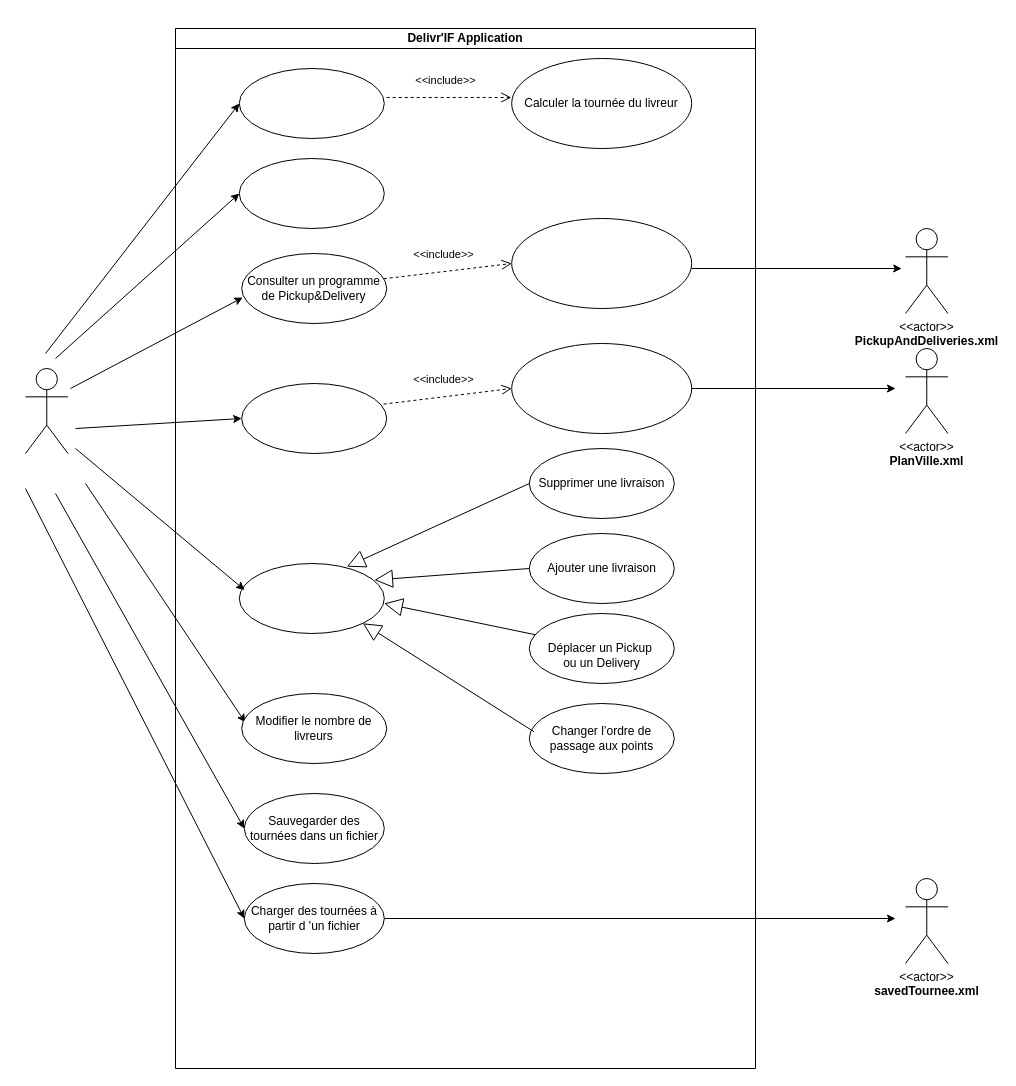
Image size: 1016x1086. Some labels were removed from this diagram. Each missing label, with the centre of its shape:
<<actor>> Utilisateur: the point at 46,411
Assigner un livreur à une livraison: the point at 311,193
Charger un plan de ville à partir d'un fichier XML: the point at 601,388
Charger un programme de Pickup&Delivery à partir d’un fichier XML: the point at 601,263
Consulter la tournée d'un livreur sur une carte: the point at 311,103
Consulter le plan de la ville sur une carte: the point at 314,418
Modifier un programme de Pickup&Delivery: the point at 311,598
